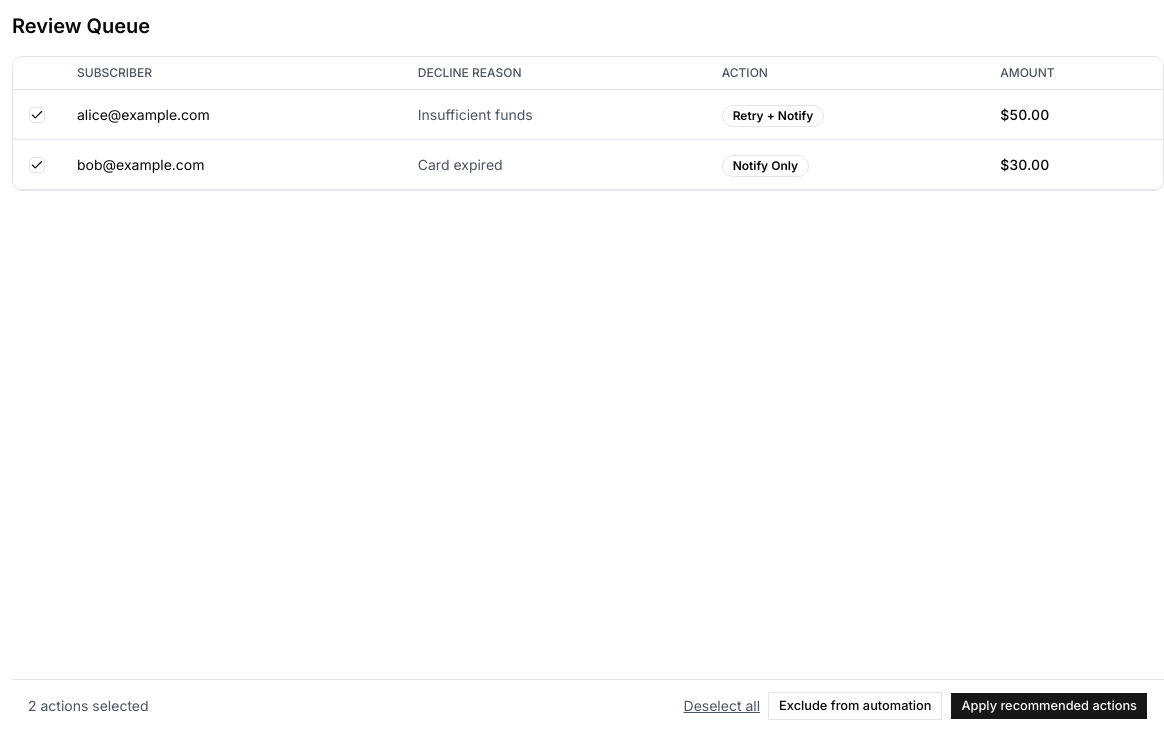
Scenario: ReviewQueuePage › shows toolbar on selection, hides on deselect all
The width and height of the screenshot is (1164, 732).
Expected: the button "Apply recommended actions" is shown, [950,692,1148,720]
Click the button "Deselect all": [722, 706] box [684,696,760,716]
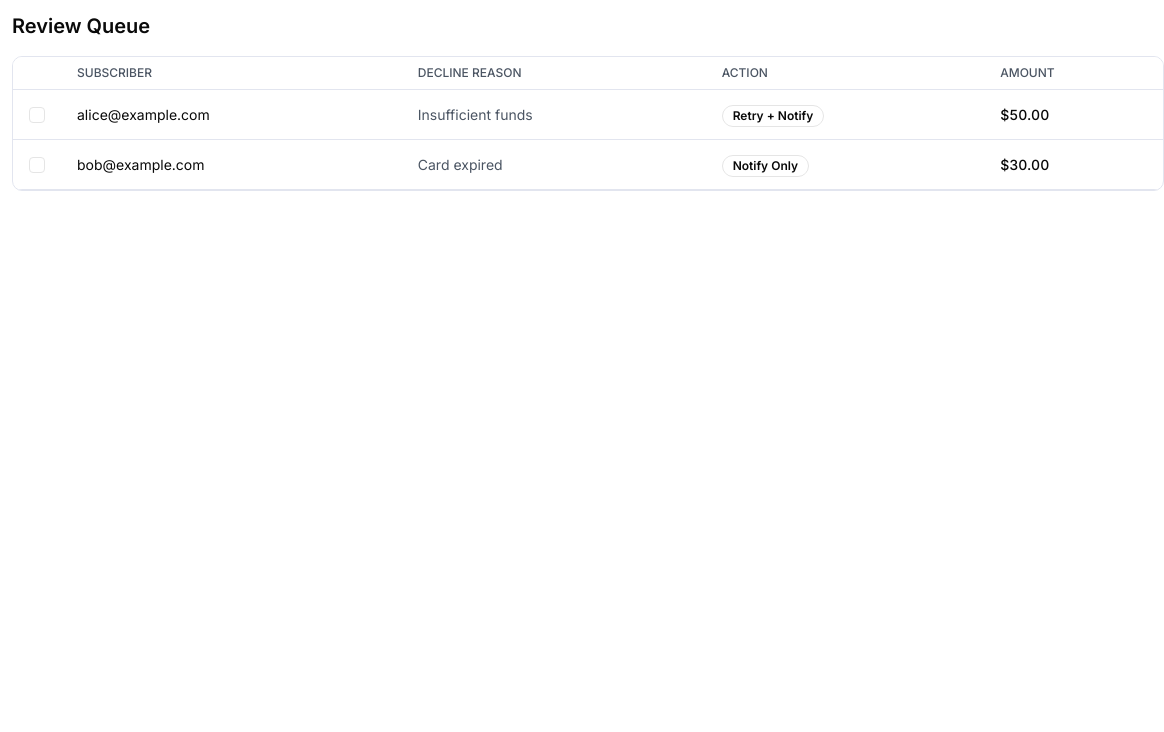
Now the button "Apply recommended actions" is gone
